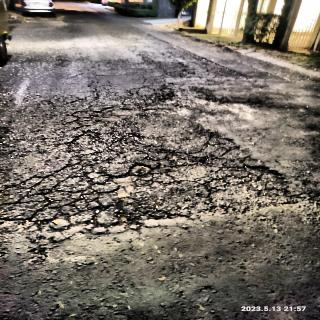alligator-crack: (2, 105, 302, 235), (75, 63, 198, 109)
